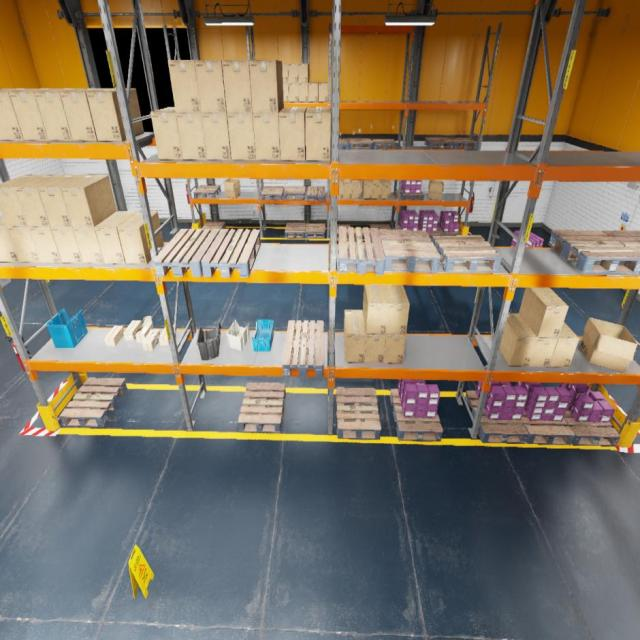box: (579, 317, 638, 373), (85, 88, 144, 141), (61, 175, 117, 227), (9, 89, 65, 140), (60, 88, 112, 141), (35, 89, 89, 140), (15, 174, 66, 226), (38, 175, 87, 227), (519, 287, 568, 338), (118, 211, 164, 264), (0, 174, 46, 226), (494, 313, 537, 367), (95, 211, 136, 264), (518, 313, 558, 367), (0, 89, 42, 140), (249, 61, 283, 112), (167, 61, 201, 112), (194, 61, 227, 112), (150, 107, 182, 159), (222, 61, 253, 112), (279, 107, 307, 161), (176, 112, 207, 160), (201, 113, 231, 160), (305, 107, 331, 161), (227, 113, 256, 160), (550, 322, 580, 367), (252, 113, 280, 160), (363, 285, 389, 334), (7, 227, 41, 263), (385, 285, 409, 335), (29, 227, 62, 263), (344, 310, 366, 363), (72, 228, 104, 264), (51, 228, 83, 264), (364, 318, 386, 363), (0, 88, 18, 140), (0, 217, 20, 262), (384, 335, 406, 364), (135, 316, 153, 342), (104, 326, 124, 346), (123, 320, 142, 340), (142, 329, 160, 350), (159, 326, 176, 344), (224, 179, 240, 198), (428, 181, 443, 200), (318, 82, 328, 102), (308, 82, 318, 102), (381, 180, 391, 199), (362, 180, 372, 199), (298, 64, 308, 82), (288, 64, 298, 82), (372, 180, 381, 199), (289, 83, 298, 102), (299, 83, 308, 102), (352, 183, 361, 199), (344, 183, 353, 199), (282, 64, 289, 82), (283, 83, 289, 102), (338, 180, 343, 199), (372, 180, 382, 183), (344, 180, 353, 182), (353, 180, 361, 182)
pallets: (549, 230, 640, 273), (60, 378, 127, 427), (465, 391, 528, 443), (153, 229, 219, 276), (201, 230, 261, 277), (390, 389, 443, 441), (378, 230, 441, 272), (432, 236, 502, 273), (282, 320, 324, 377), (238, 383, 285, 433), (336, 388, 382, 439), (560, 409, 621, 447), (338, 226, 385, 275), (522, 410, 574, 444), (602, 231, 640, 273), (193, 185, 220, 199), (284, 222, 306, 238), (448, 138, 478, 149), (424, 138, 454, 149), (418, 226, 441, 240), (260, 187, 284, 200), (305, 223, 325, 238), (283, 187, 306, 200), (307, 186, 325, 201), (400, 188, 424, 199), (372, 140, 398, 150), (437, 226, 461, 236), (337, 224, 351, 240), (350, 138, 372, 148), (202, 222, 226, 231), (339, 138, 350, 148), (371, 225, 392, 230), (395, 224, 402, 230)
